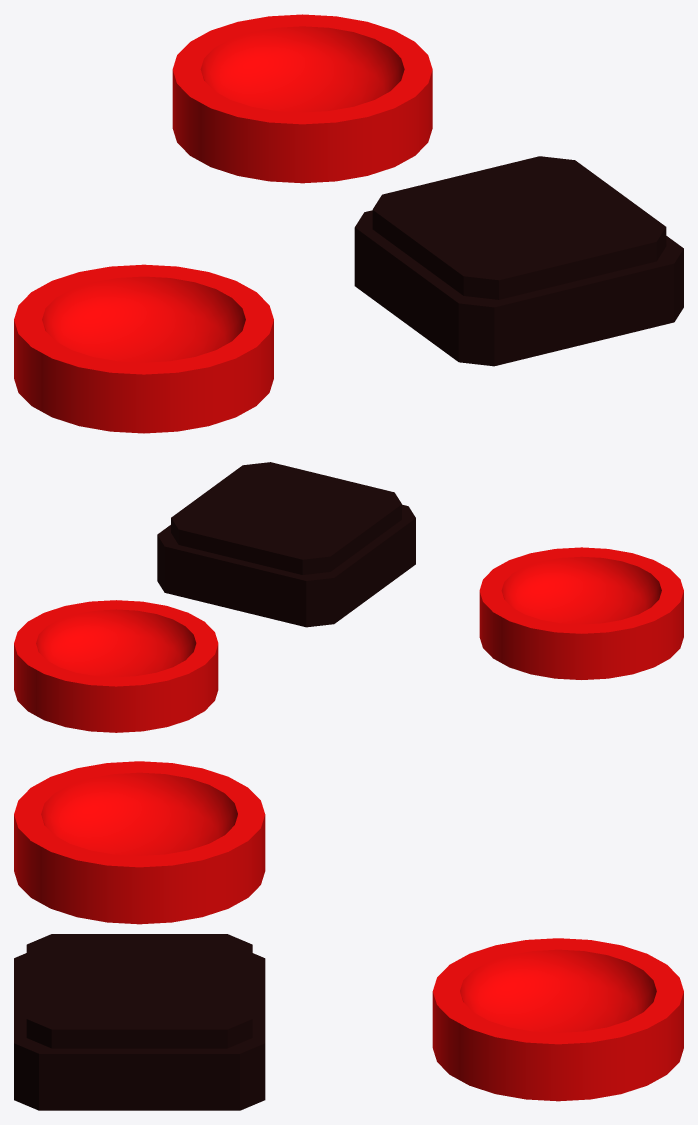
File: Splitter_2.obj
The picture shows the model from 3 angles, top to bottom: view 1: azimuth 30°, elevation 25°; view 2: azimuth 150°, elevation 25°; view 3: azimuth 270°, elevation 25°; orthographic projection. The views are drawn at different scales.
Parts seen in each view (by area): view 1: Handle1, Output11, Output21; view 2: Handle1, Output11, Output21; view 3: Handle1, Output11, Output21.
Boxes of the visible parts, x1,y1,x2,y2 form: Handle1: (354, 156, 683, 366); Output11: (172, 14, 432, 183); Output21: (14, 264, 273, 433); Handle1: (157, 462, 415, 627); Output11: (14, 600, 218, 732); Output21: (479, 547, 683, 679); Handle1: (14, 934, 265, 1110); Output11: (432, 938, 683, 1101); Output21: (14, 761, 265, 924).
Size of the model in its own units: 1.6 by 0.2 by 1.6.
